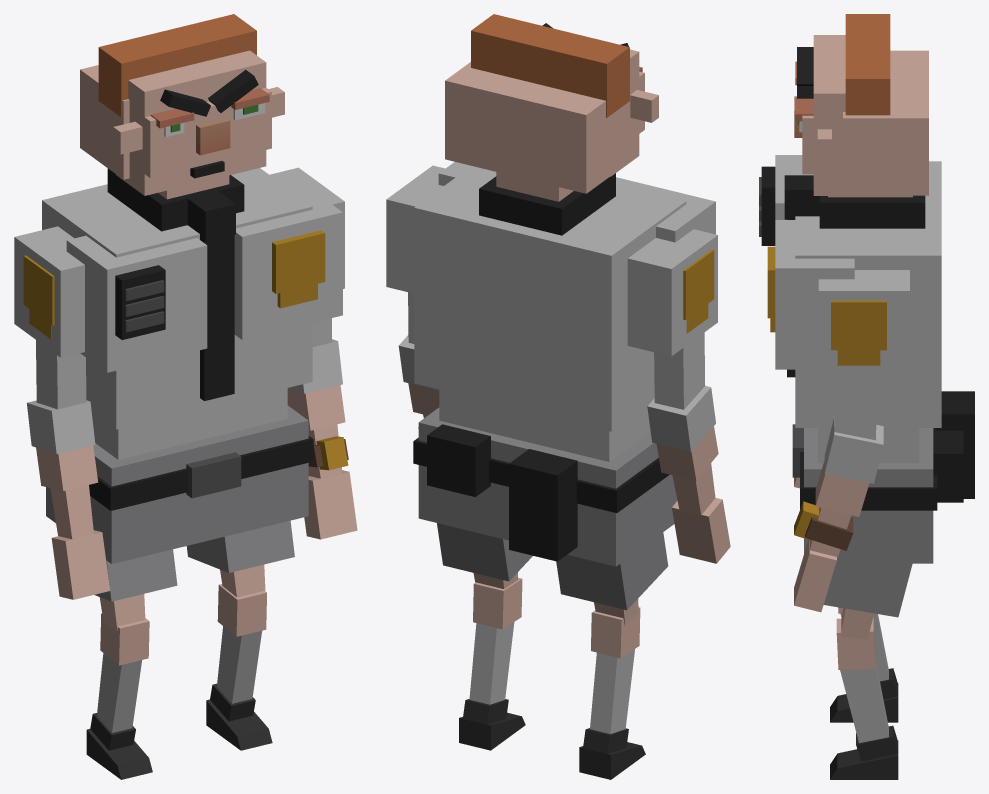
Rendered from character_guard.fbx.
The picture shows the model from 3 angles, left to right: view 1: azimuth 30°, elevation 25°; view 2: azimuth 150°, elevation 25°; view 3: azimuth 270°, elevation 25°; orthographic projection.
Visible parts, largest first — view 1: mesh_guard; view 2: mesh_guard; view 3: mesh_guard.
Boxes of the visible parts, <box> form: mesh_guard: <box>14,14,357,779</box>; mesh_guard: <box>386,14,730,779</box>; mesh_guard: <box>759,14,974,779</box>.
Bounding box in the file's own units: 0.8008 × 1.87 × 0.5257.
